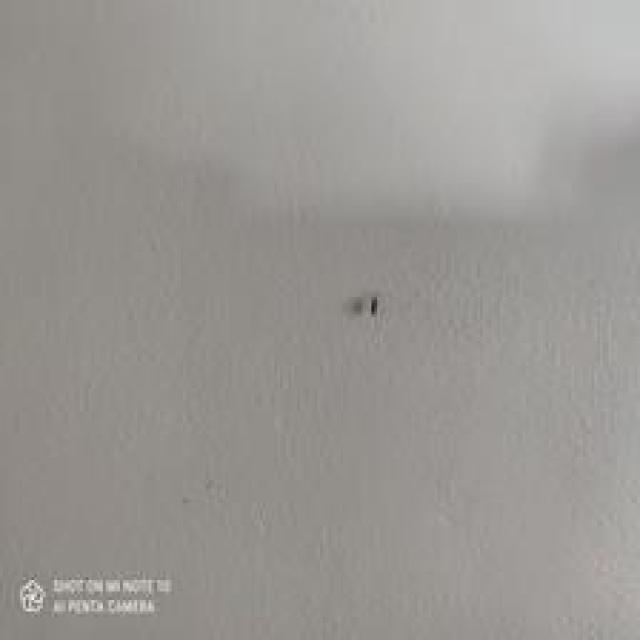Aedes albopictus: (351, 294, 380, 317)
